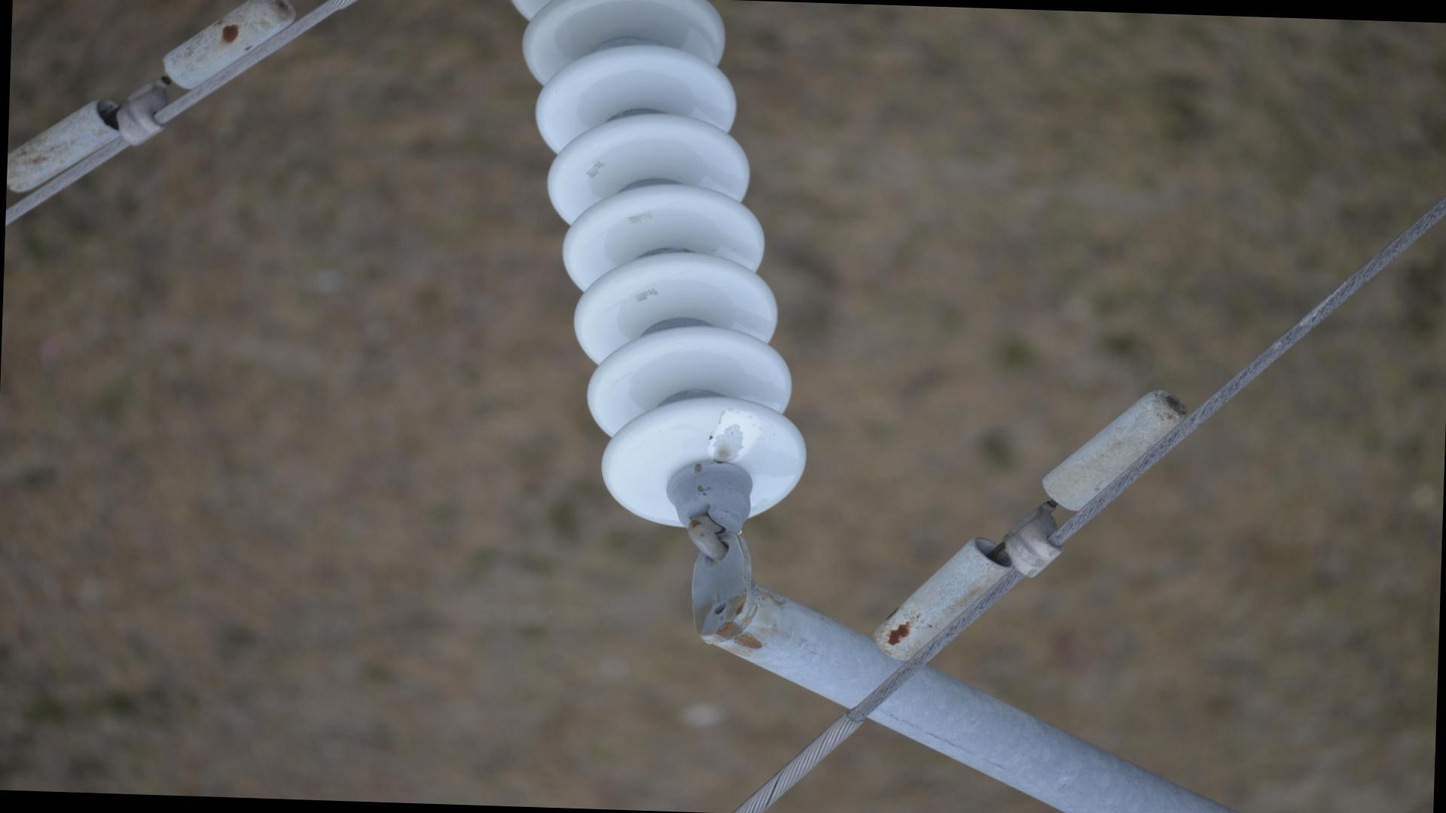damper: (865, 373, 1202, 677), (1, 1, 300, 211)
